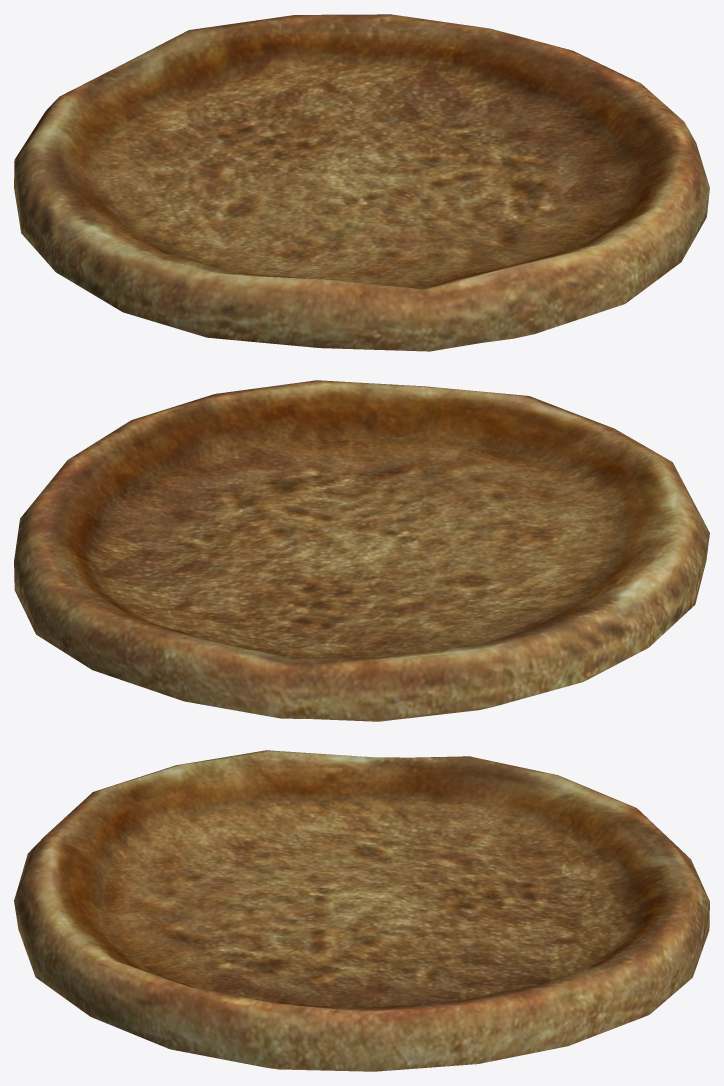
File: nang.FBX
The picture shows the model from 3 angles, top to bottom: view 1: azimuth 30°, elevation 25°; view 2: azimuth 150°, elevation 25°; view 3: azimuth 270°, elevation 25°; orthographic projection.
Visible parts, largest first — view 1: nang; view 2: nang; view 3: nang.
Part boxes in pixels (<box>): nang: <box>14,14,709,351</box>; nang: <box>14,380,709,721</box>; nang: <box>14,750,709,1071</box>.
Bounding box in the file's own units: 30.08 × 4.34 × 30.91.
Materials: 1 (1 with a texture image).
